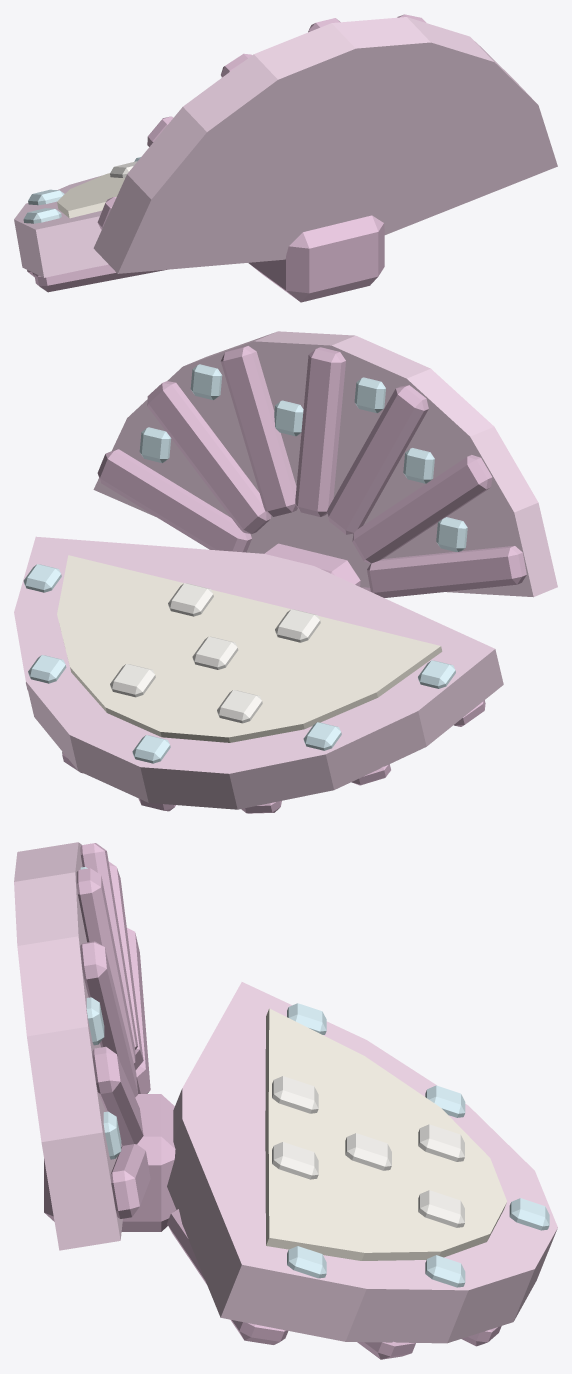
Rendered from UnderwaterShellSlice.fbx.
3 views of the same model, one above another, from view 1: azimuth 30°, elevation 25°; view 2: azimuth 150°, elevation 25°; view 3: azimuth 270°, elevation 25° (orthographic). The views are drawn at different scales.
Parts seen in each view (by area): view 1: UnderwaterShellSlice.Shells, UnderwaterShellSlice.Ribs, UnderwaterShellSlice.Lining, UnderwaterShellSlice.Speckles; view 2: UnderwaterShellSlice.Shells, UnderwaterShellSlice.Ribs, UnderwaterShellSlice.Lining, UnderwaterShellSlice.Speckles, UnderwaterShellSlice.Pips; view 3: UnderwaterShellSlice.Shells, UnderwaterShellSlice.Lining, UnderwaterShellSlice.Ribs, UnderwaterShellSlice.Pips, UnderwaterShellSlice.Speckles.
Boxes of the visible parts, x1,y1,x2,y2 form: UnderwaterShellSlice.Shells: (14, 17, 557, 277); UnderwaterShellSlice.Ribs: (27, 14, 489, 302); UnderwaterShellSlice.Lining: (57, 173, 124, 218); UnderwaterShellSlice.Speckles: (23, 157, 140, 223); UnderwaterShellSlice.Shells: (14, 331, 557, 809); UnderwaterShellSlice.Ribs: (26, 346, 526, 813); UnderwaterShellSlice.Lining: (57, 555, 442, 742); UnderwaterShellSlice.Speckles: (23, 364, 467, 763); UnderwaterShellSlice.Pips: (110, 583, 320, 723); UnderwaterShellSlice.Shells: (14, 842, 557, 1343); UnderwaterShellSlice.Lining: (265, 1008, 506, 1260); UnderwaterShellSlice.Ribs: (44, 843, 501, 1359); UnderwaterShellSlice.Pips: (272, 1076, 464, 1227); UnderwaterShellSlice.Speckles: (80, 867, 549, 1287).
Size of the model in its own units: 2.8 by 1.95 by 2.27.
